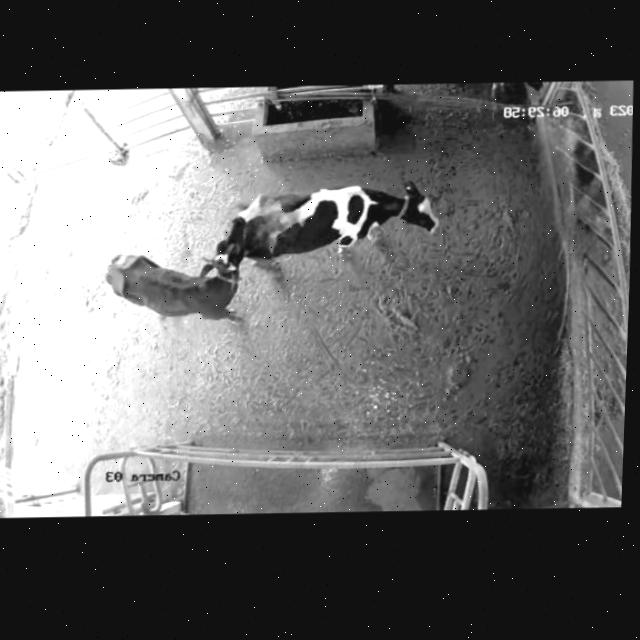propping: (191, 190, 279, 304)
stand: (201, 176, 457, 282)
